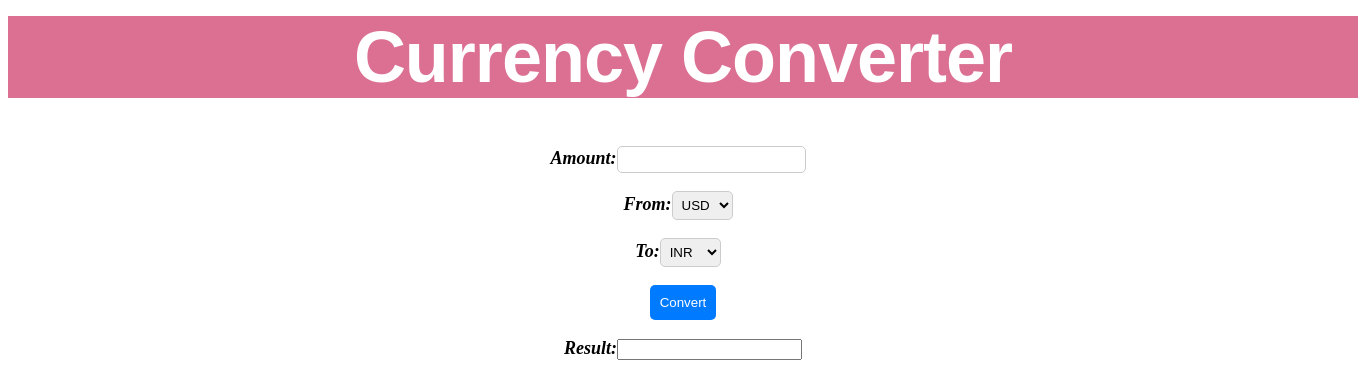
converts INR to USD correctly
The width and height of the screenshot is (1366, 377).
# enter amount and select currencies
Type "100" into the number field labelled "Amount:" at x=711, y=160, box [616,146,806,174]
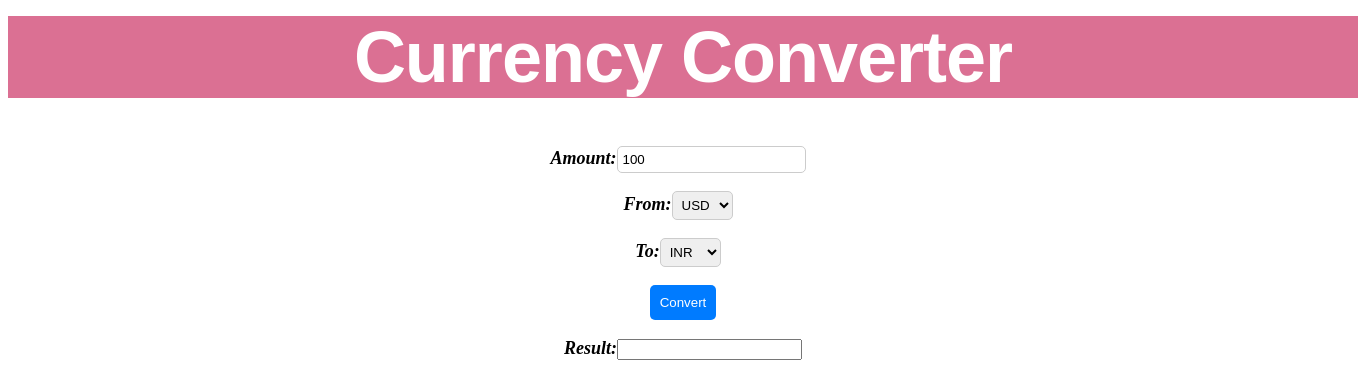
Select "INR" in the dropdown labelled "From:" at x=702, y=206, box [672,192,732,220]
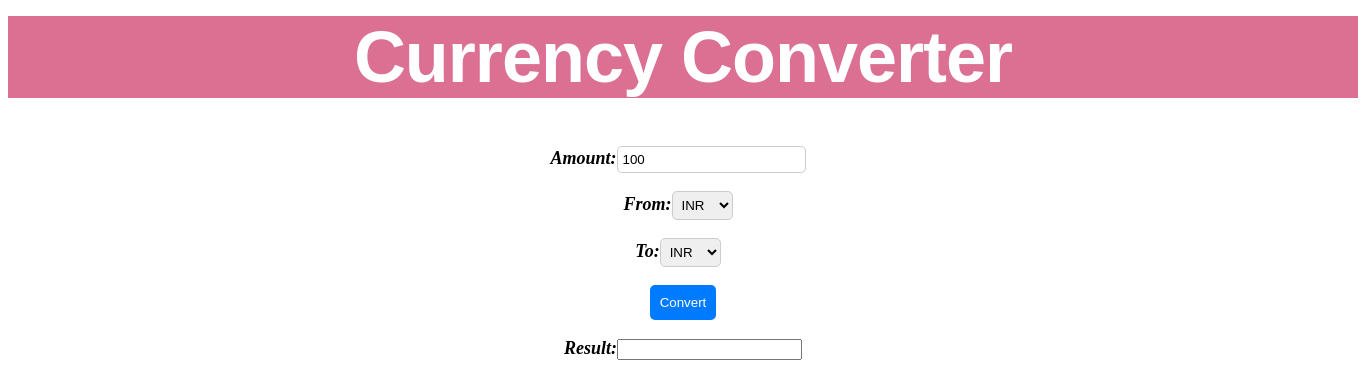
Select "USD" in the dropdown labelled "To:" at x=690, y=253, box [660,238,721,268]
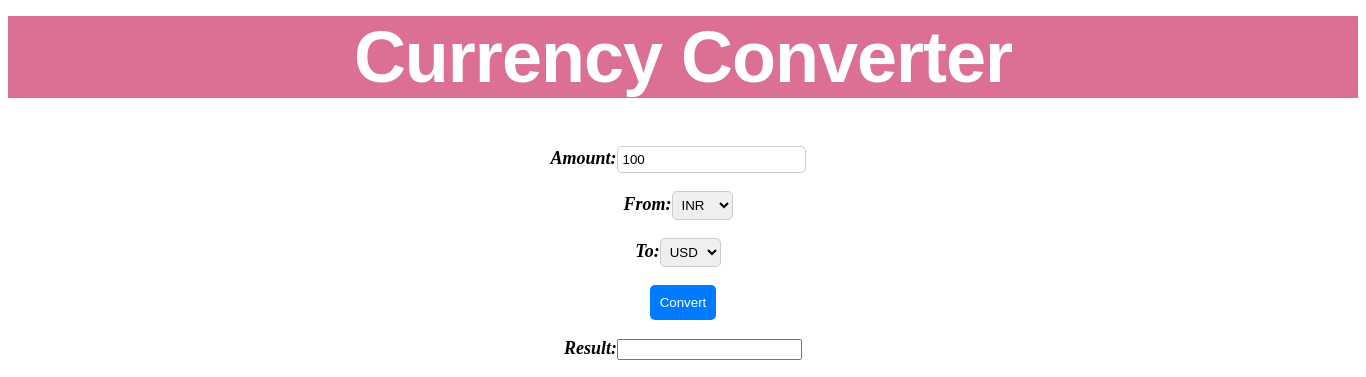
# click the convert button
Click the button "Convert" at x=683, y=303, box [650,286,716,320]
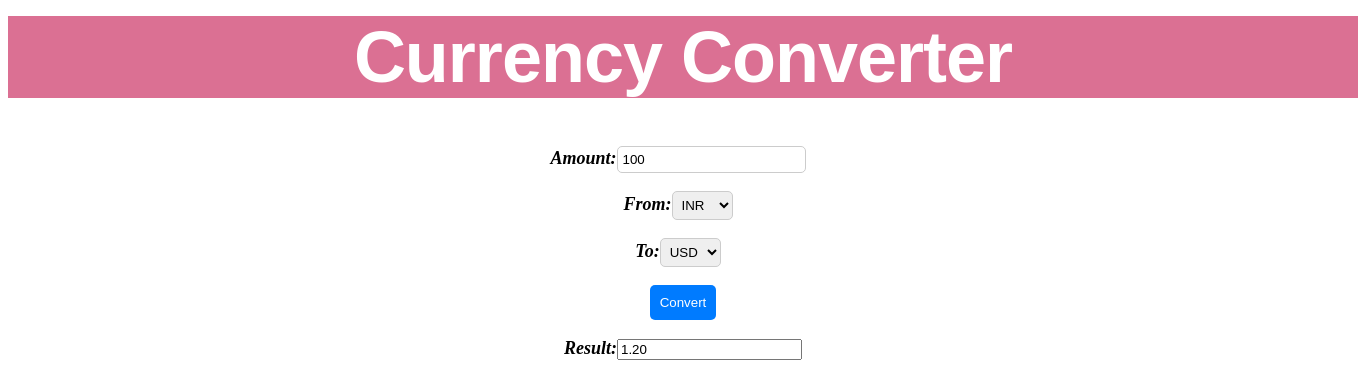
expect the field showing "1.20" is shown: met, box [617,340,802,360]
